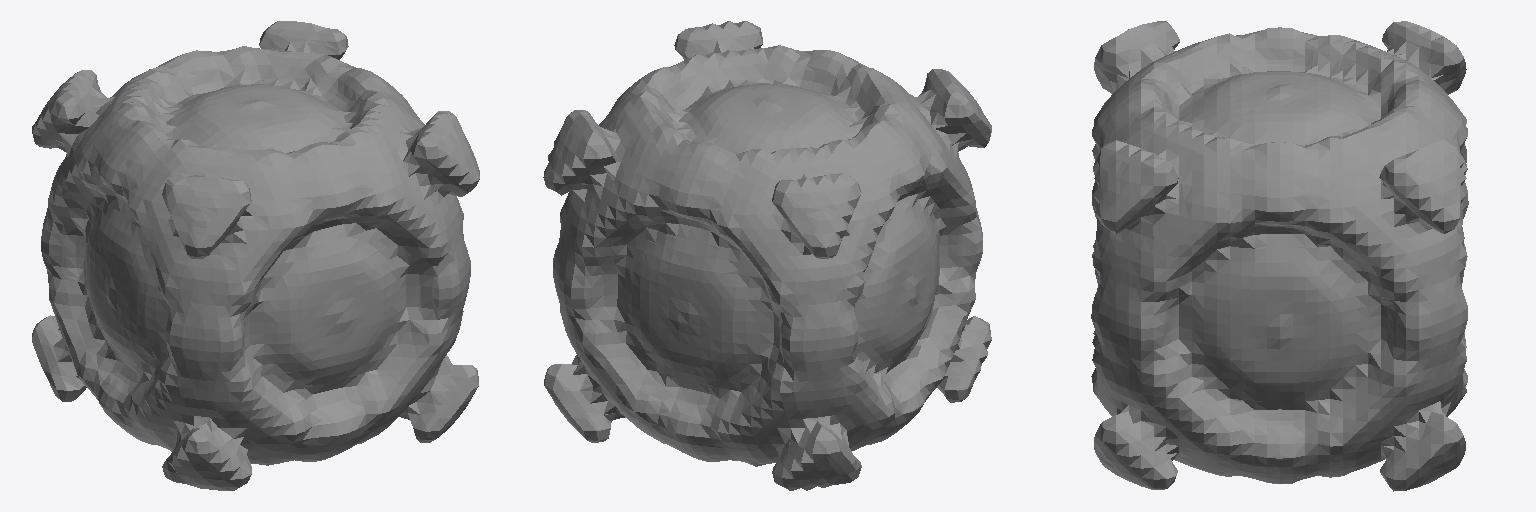
URDF robot description (cube.urdf):
<?xml version="0.0" ?> 
<robot name="cube.urdf"> 
<link name="legobrick"> 
<contact> 
<lateral_friction value="5.0"/> 
<rolling_friction value="0.0"/> 
<contact_cfm value="0.0"/> 
<contact_erp value="1.0"/> 
</contact> 
<inertial> 
<origin rpy="0 0 0" xyz="0.0 0.0 0.0"/> 
<mass value=".01"/> 
<inertia ixx="1" ixy="0" ixz="0" iyy="1" iyz="0" izz="1"/> 
</inertial> 
<visual> 
<origin rpy="1.570796 0 0" xyz="-0.026598355446687382 0.026634016152300433 -0.026641611349931496"/> 
<geometry> 
<mesh filename="C25_0.obj" scale="0.0006990844024294509 0.0006990844024294509 0.0006990844024294509"/> 
</geometry> 
<material name="yellow"> 
<color rgba="0.6 0.6 0.6 1"/> 
</material> 
</visual> 
<collision> 
<origin rpy="1.570796 0 0" xyz="-0.026598355446687382 0.026634016152300433 -0.026641611349931496"/> 
<geometry> 
<mesh filename="C25_0.obj" scale="0.0006990844024294509 0.0006990844024294509 0.0006990844024294509"/> 
</geometry> 
</collision> 
</link> 
</robot>

--- Facts derived from the render (not from the file) ---
The picture shows the robot from 3 angles, left to right: view 1: azimuth 30°, elevation 25°; view 2: azimuth 150°, elevation 25°; view 3: azimuth 270°, elevation 25°; orthographic projection.
Robot: cube.urdf — 1 links, 0 joints (none); root link legobrick; default pose: every joint at zero.
Visible links, largest first — view 1: legobrick; view 2: legobrick; view 3: legobrick.
Link boxes in pixels (x1=…): legobrick: x1=32, y1=21, x2=479, y2=490; legobrick: x1=543, y1=21, x2=991, y2=490; legobrick: x1=1091, y1=21, x2=1468, y2=491.
Bounding box of the posed robot: 0.056 × 0.056 × 0.056 m (x, y, z).
1 mesh visuals loaded from 1 distinct referenced files (1 OBJ).
